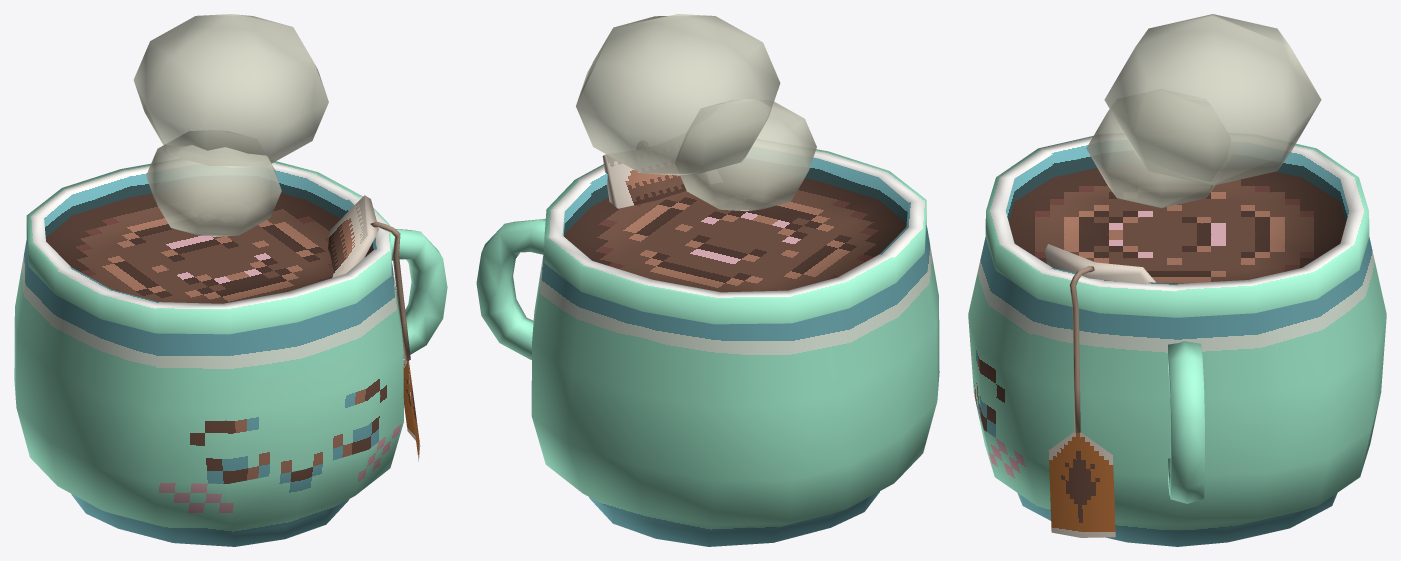
The model's file is black_milk_tea.glb.
3 views of the same model, side by side, from view 1: azimuth 30°, elevation 25°; view 2: azimuth 150°, elevation 25°; view 3: azimuth 270°, elevation 25° (orthographic). The views are drawn at different scales.
Parts seen in each view (by area): view 1: Cube_0, Cube.001_2, Cube.002_7; view 2: Cube_0, Cube.001_2, Cube.002_7; view 3: Cube_0, Cube.001_2, Cube.002_7.
Part boxes in pixels (left/top/right/bottom): Cube_0: left=14, top=161, right=447, bottom=546; Cube.001_2: left=133, top=14, right=328, bottom=236; Cube.002_7: left=328, top=195, right=420, bottom=461; Cube_0: left=476, top=149, right=939, bottom=546; Cube.001_2: left=576, top=14, right=816, bottom=210; Cube.002_7: left=602, top=154, right=686, bottom=208; Cube_0: left=968, top=136, right=1386, bottom=546; Cube.001_2: left=1086, top=14, right=1321, bottom=208; Cube.002_7: left=1045, top=244, right=1155, bottom=537.
Bounding box in the file's own units: 3.53 × 3.79 × 2.96.
3 materials, 2 textured.
